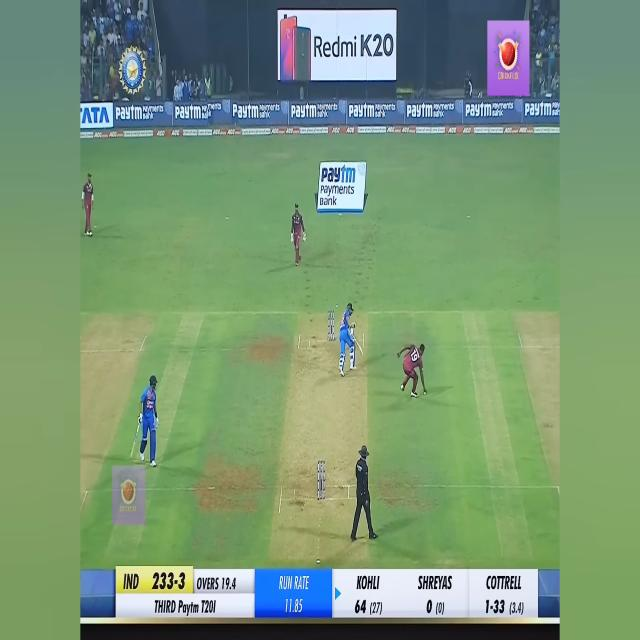fully_visible: (318, 157, 356, 186), (348, 94, 376, 122), (115, 101, 144, 126), (230, 98, 261, 121), (404, 102, 434, 124), (463, 100, 493, 122), (290, 100, 318, 122), (174, 100, 202, 121), (524, 100, 554, 119), (178, 596, 200, 618)
